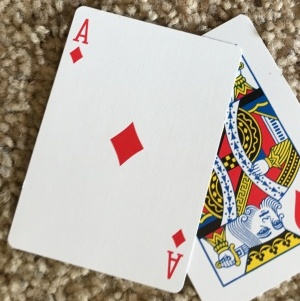card: (10, 6, 235, 295)
